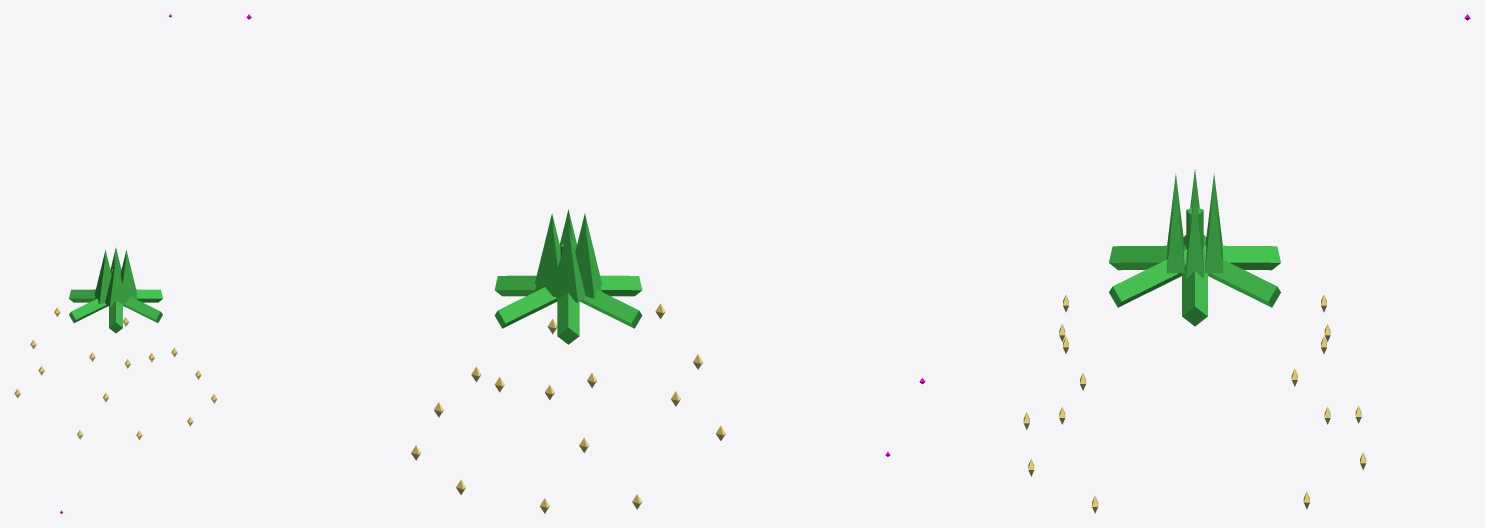
The model's file is acc_strawberry.fbx.
3 views of the same model, side by side, from view 1: azimuth 30°, elevation 25°; view 2: azimuth 150°, elevation 25°; view 3: azimuth 270°, elevation 25° (orthographic). The views are drawn at different scales.
Visible parts, largest first — view 1: Leaves, Seeds; view 2: Leaves, Seeds; view 3: Leaves, Seeds.
Boxes of the visible parts, box(x1,y1,x2,y2) form: Leaves: box(69, 248, 162, 333); Seeds: box(14, 307, 217, 439); Leaves: box(494, 209, 642, 344); Seeds: box(411, 303, 725, 513); Leaves: box(1109, 170, 1280, 326); Seeds: box(1023, 295, 1366, 513).
Size of the model in its own units: 2.99 by 3.6 by 2.99.
